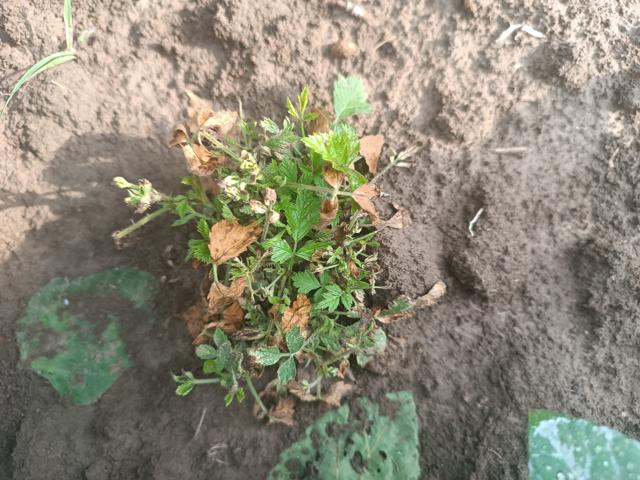bad weed: (104, 47, 464, 431), (7, 1, 84, 112)
